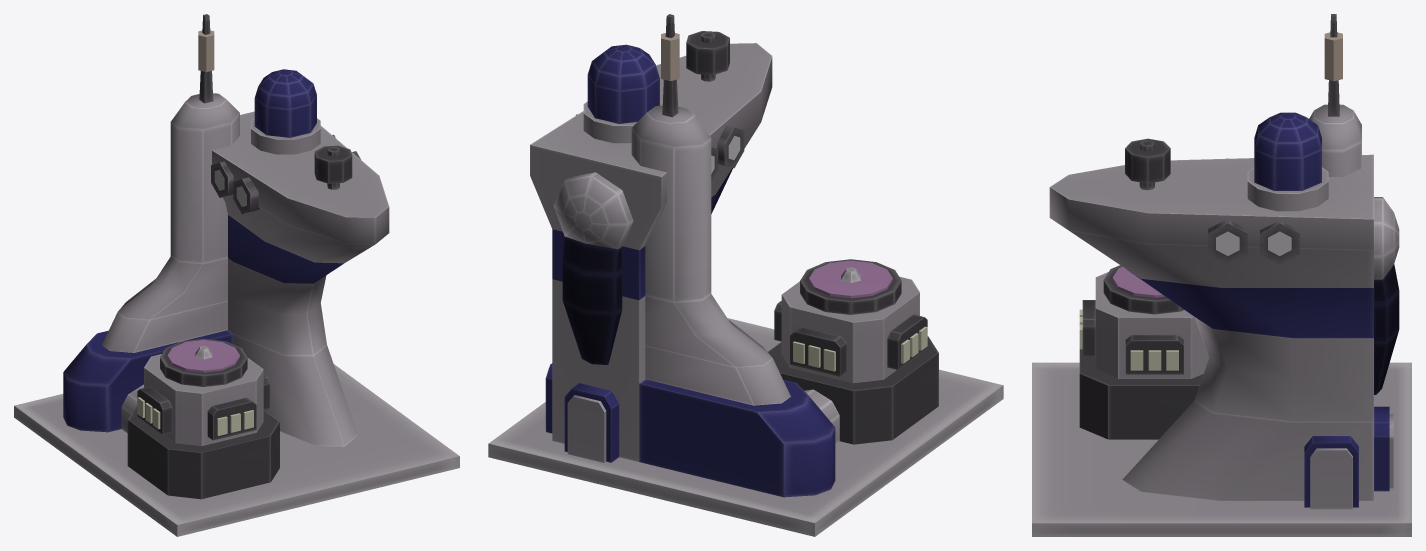
File: struct_Research_Lab_Atreus_A.FBX
3 renders of one model, left to right at view 1: azimuth 30°, elevation 25°; view 2: azimuth 150°, elevation 25°; view 3: azimuth 270°, elevation 25°, orthographic. The views are drawn at different scales.
Parts seen in each view (by area): view 1: struct_Research_Lab_Atreus_A; view 2: struct_Research_Lab_Atreus_A; view 3: struct_Research_Lab_Atreus_A.
Part boxes in pixels (bbox=[...]): struct_Research_Lab_Atreus_A: bbox=[14, 14, 459, 536]; struct_Research_Lab_Atreus_A: bbox=[488, 14, 1003, 536]; struct_Research_Lab_Atreus_A: bbox=[1032, 14, 1411, 536].
Size of the model in its own units: 500 by 656 by 500.
